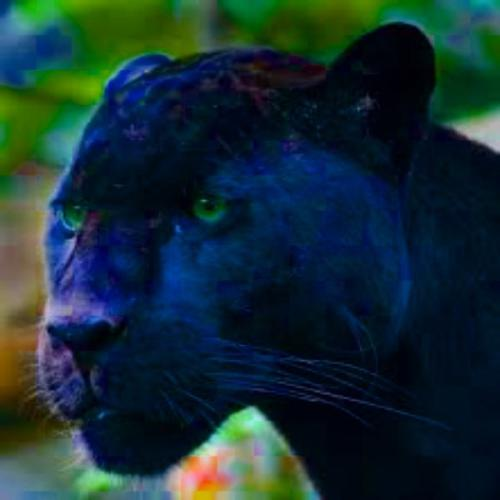panther-endangered: (36, 21, 500, 500)
